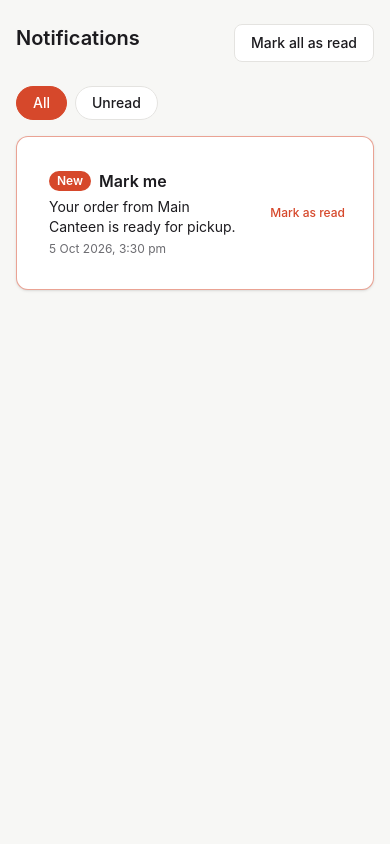
it: NotificationsView — mark one read › disables a notification while its mark-read is in flight
Expected: the text "Mark me" is shown, [99,169,167,193]
Click the button named "Mark \"Mark me\" as read": (308, 213) [258,197,357,229]
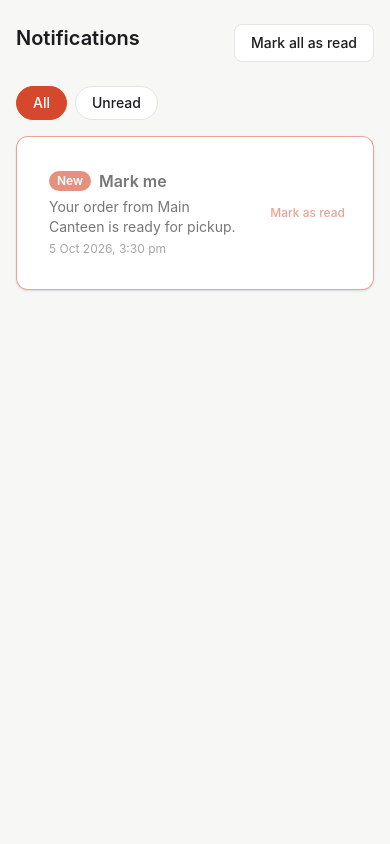
Expected: the button named "Mark \"Mark me\" as read" is disabled, [258,197,357,229]
